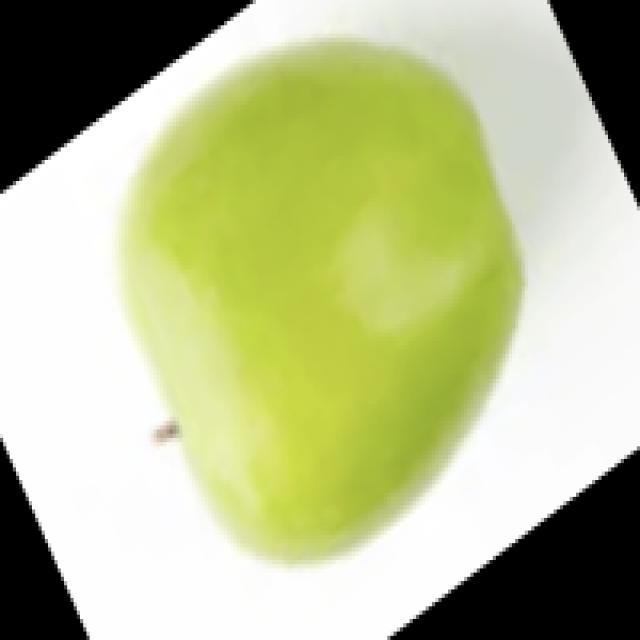Fresh Apple: (132, 40, 490, 553)
